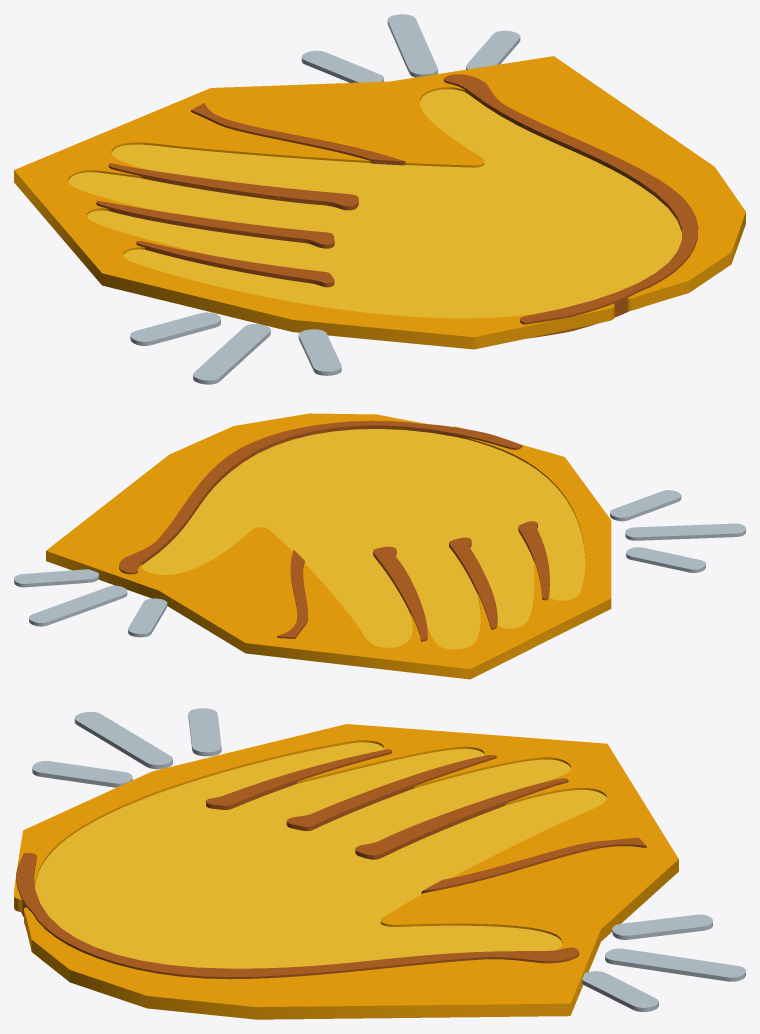
Rendered from emoji_u1f44f.glb.
3 renders of one model, top to bottom at view 1: azimuth 30°, elevation 25°; view 2: azimuth 150°, elevation 25°; view 3: azimuth 270°, elevation 25°, orthographic. The views are drawn at different scales.
Visible parts, largest first — view 1: emoji_u1f44f; view 2: emoji_u1f44f; view 3: emoji_u1f44f.
Part boxes in pixels (x1,y1,x2,y2): emoji_u1f44f: (14, 14, 745, 384); emoji_u1f44f: (14, 413, 745, 679); emoji_u1f44f: (14, 708, 745, 1019).
Bounding box in the file's own units: 0.0311 × 0.0008 × 0.0318.
